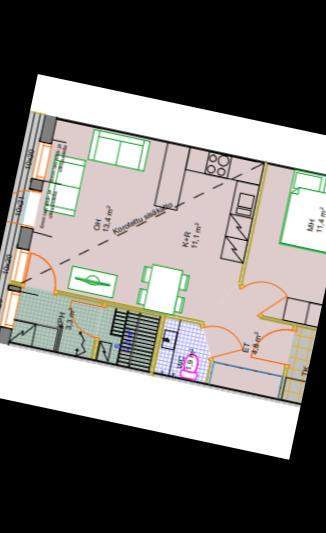door: (232, 272, 289, 325), (193, 318, 248, 368), (247, 320, 298, 370), (60, 295, 110, 341), (18, 248, 62, 298), (5, 183, 40, 230)
window: (4, 237, 30, 290), (26, 132, 51, 186), (0, 286, 18, 334)
